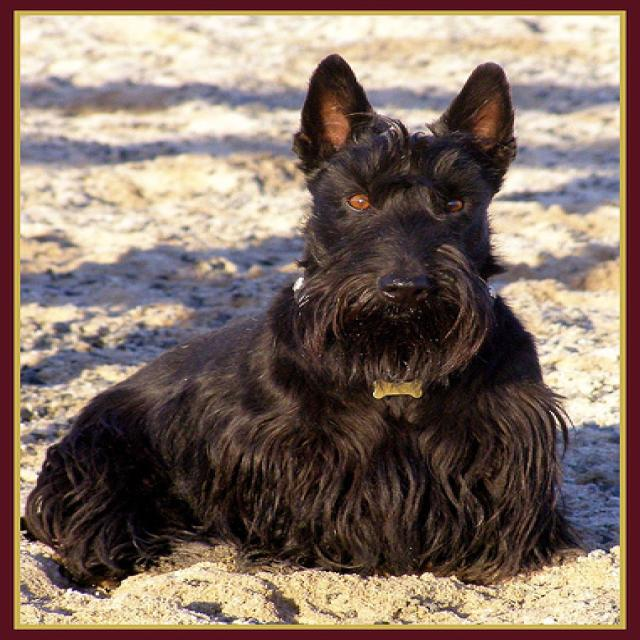dog: (291, 52, 514, 338)
